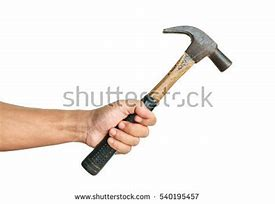hammer: (80, 23, 233, 177)
